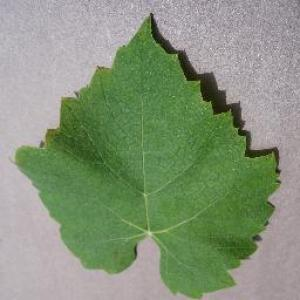Folha: (11, 12, 281, 299)
